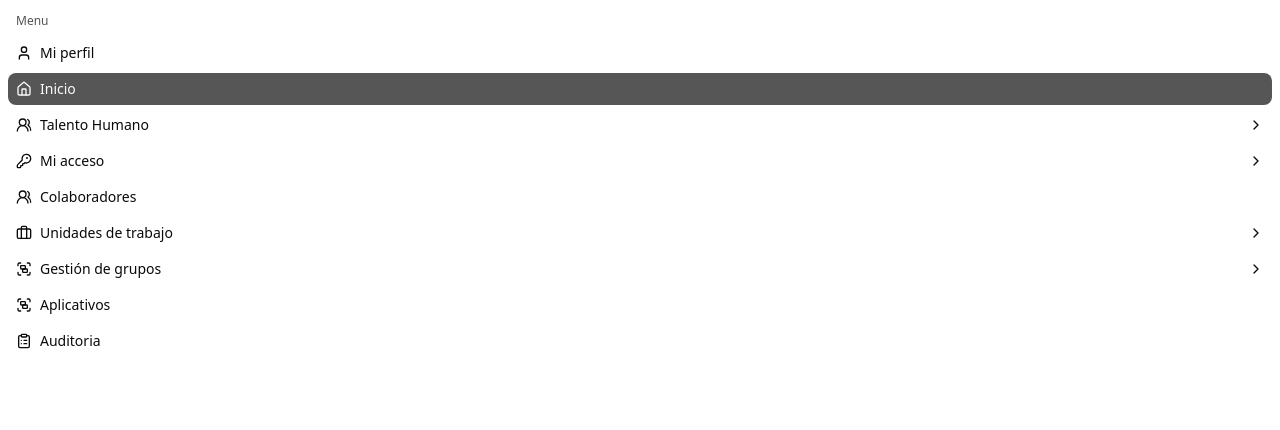
it: NavMenu permissions › mantiene visibles los módulos admin para staff aunque falten oauth_perms
Click the button "Talento Humano". click: (94, 124)
box: [8,109,1272,141]
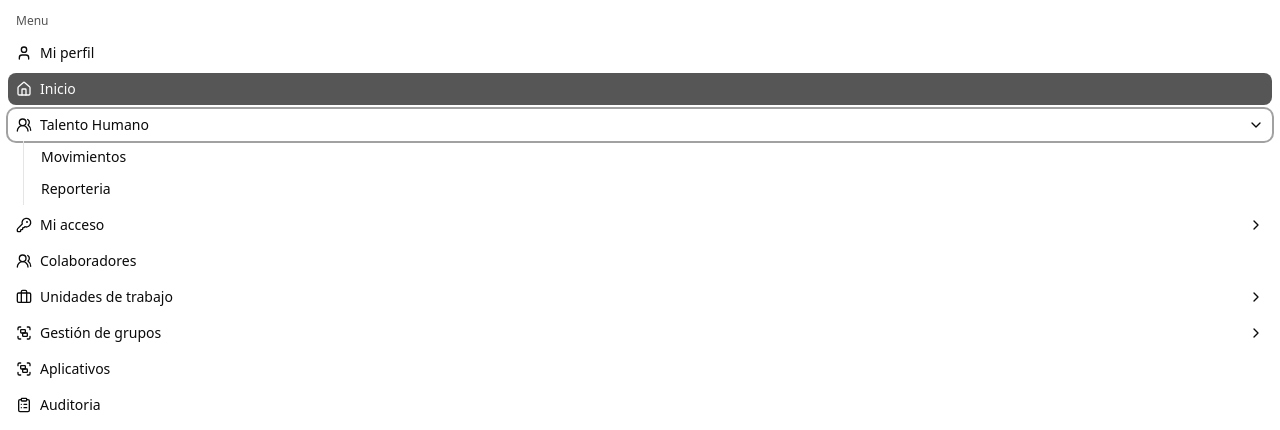
Expected: the text "Movimientos" is shown, [41,147,126,166]
Expected: the text "Reporteria" is shown, [41,179,111,198]
Expected: the button "Talento Humano" is expanded, [8,109,1272,141]
